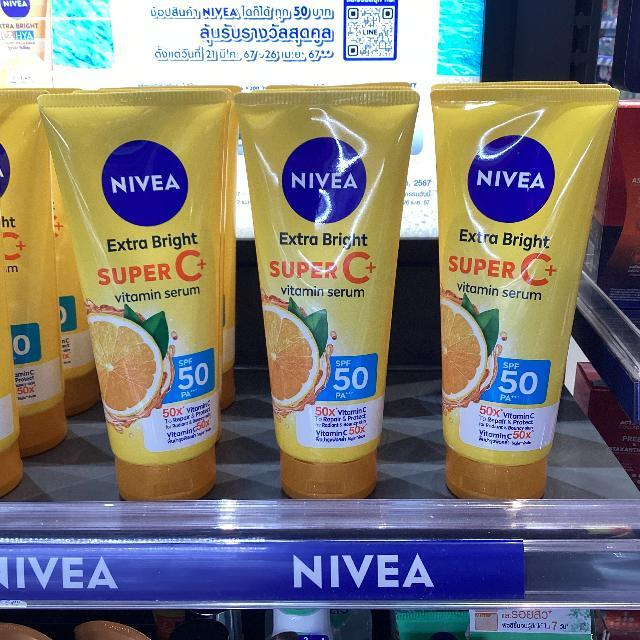Squeeze Tube: (37, 92, 244, 502), (430, 86, 616, 507), (234, 92, 418, 492), (0, 82, 68, 494)
